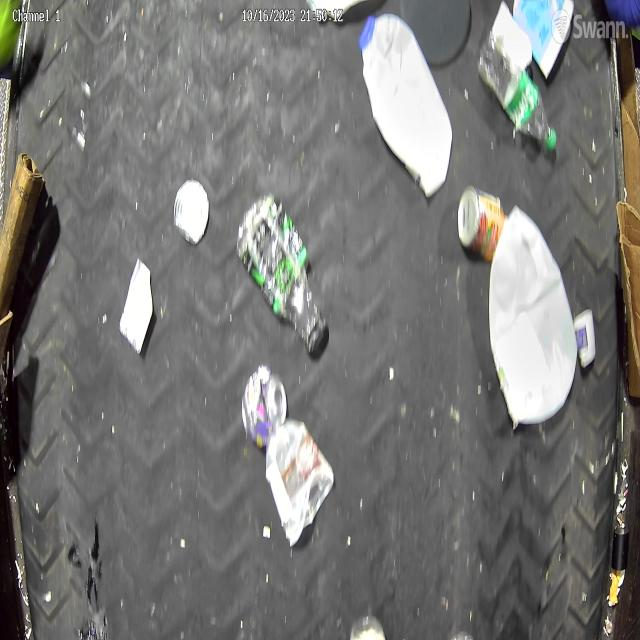can: (239, 368, 289, 448), (457, 184, 507, 264)
milk_jug: (487, 202, 581, 432), (358, 11, 455, 201)
plastic_bottle: (234, 193, 332, 359), (476, 28, 558, 157)
